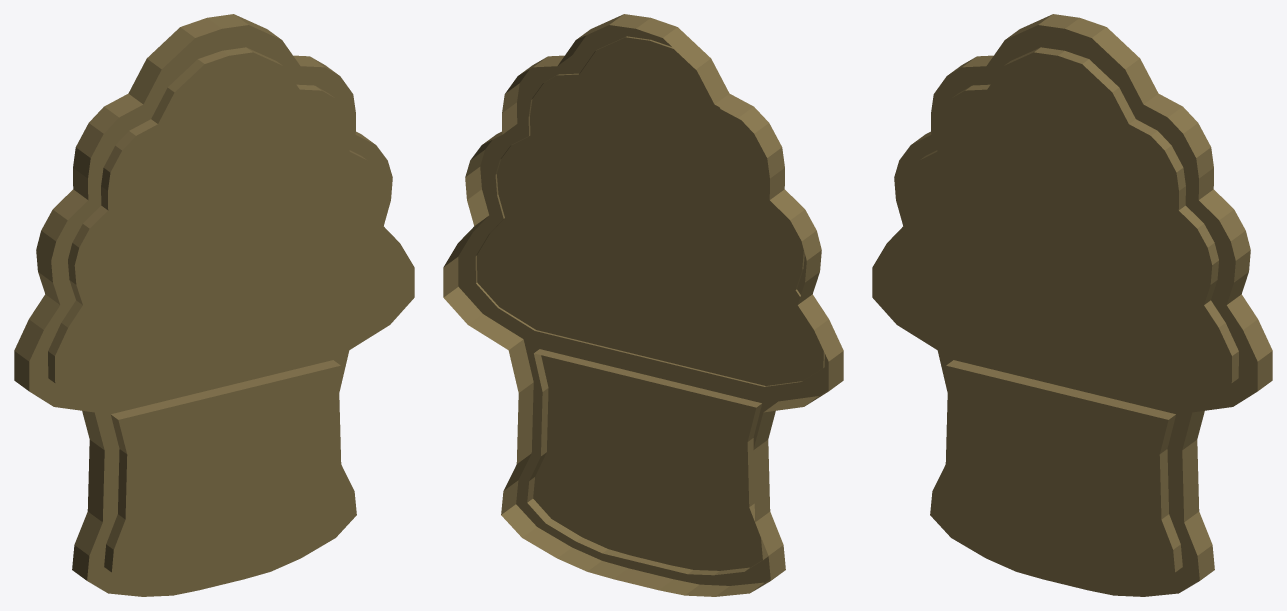
Rendered from tree_bicuit_naked (1).fbx.
3 views of the same model, side by side, from view 1: azimuth 30°, elevation 25°; view 2: azimuth 150°, elevation 25°; view 3: azimuth 330°, elevation 25° (orthographic).
Parts seen in each view (by area): view 1: pCylinder6; view 2: pCylinder6; view 3: pCylinder6.
Boxes of the visible parts, x1,y1,x2,y2 form: pCylinder6: [14, 14, 414, 596]; pCylinder6: [443, 14, 843, 596]; pCylinder6: [872, 14, 1272, 596].
Size of the model in its own units: 1.7 by 2.34 by 0.173.
